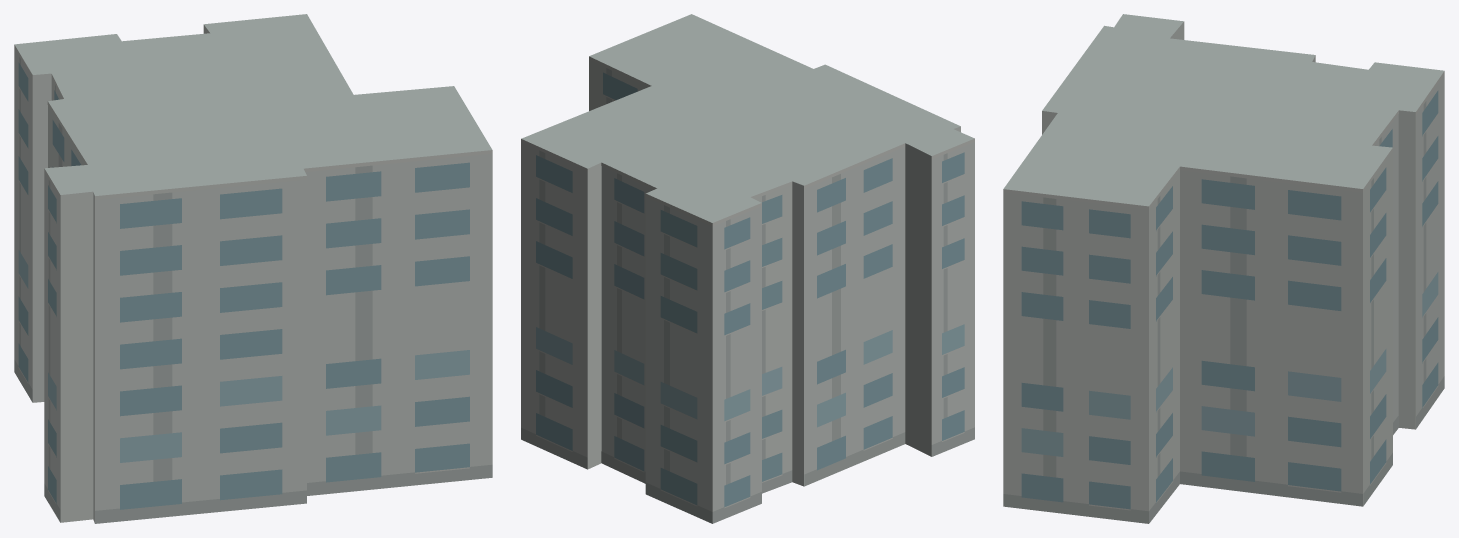
The model's file is survey-upis-32877597.glb.
The picture shows the model from 3 angles, left to right: view 1: azimuth 30°, elevation 25°; view 2: azimuth 150°, elevation 25°; view 3: azimuth 270°, elevation 25°; orthographic projection. The views are drawn at different scales.
Parts seen in each view (by area): view 1: survey-upis-32877597.tmp; view 2: survey-upis-32877597.tmp; view 3: survey-upis-32877597.tmp.
Boxes of the visible parts, left/top/right/bottom form: survey-upis-32877597.tmp: left=14, top=14, right=492, bottom=523; survey-upis-32877597.tmp: left=521, top=14, right=974, bottom=523; survey-upis-32877597.tmp: left=1003, top=14, right=1444, bottom=523.
Bounding box in the file's own units: 27.76 × 21.35 × 26.9.
